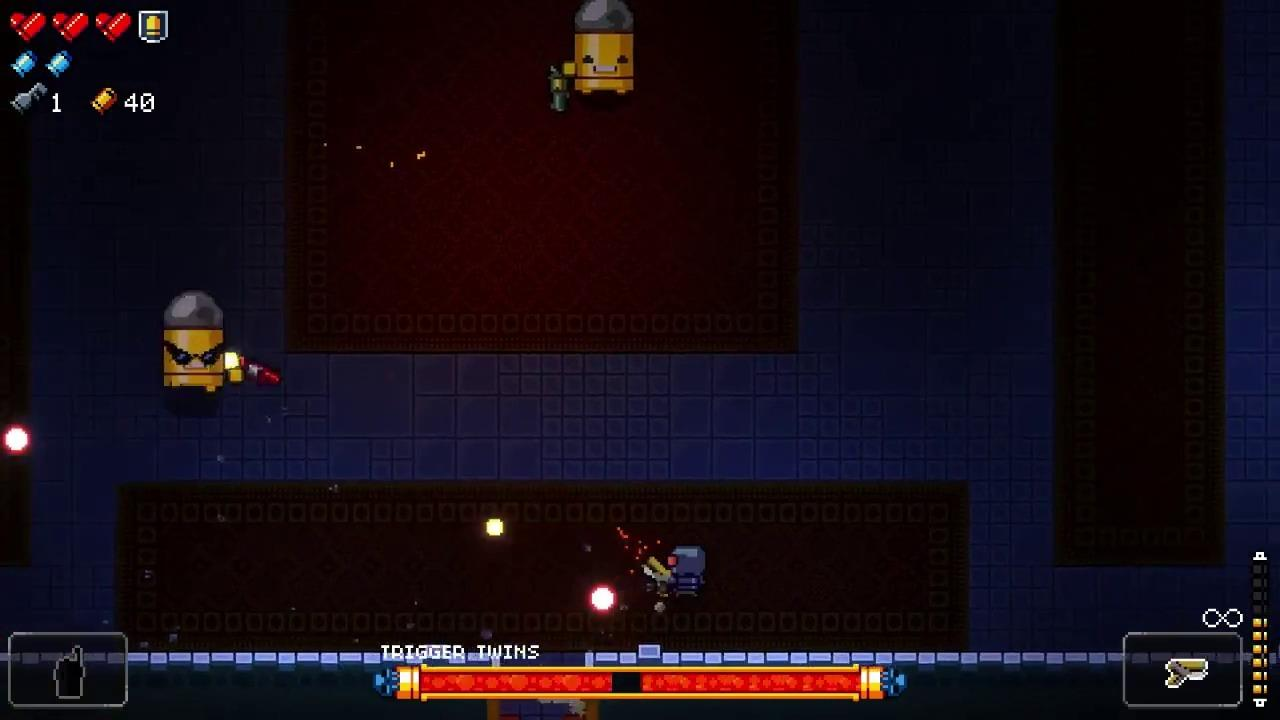boss_shades: (161, 289, 226, 394)
boss_smiley: (573, 0, 636, 98)
bullet: (1, 424, 31, 454), (589, 584, 617, 616)
player: (667, 547, 707, 598)
